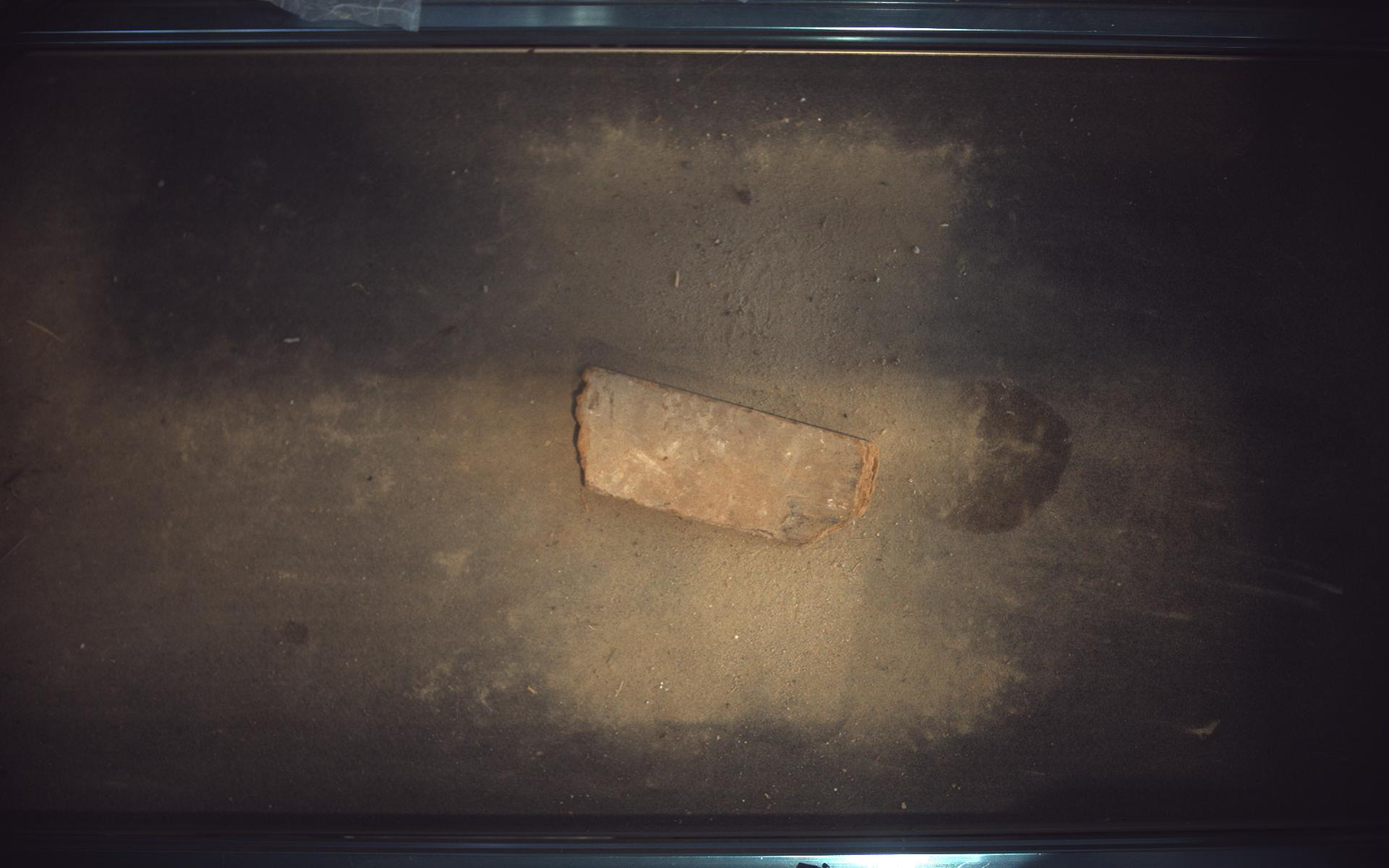wood: (575, 367, 880, 545)
